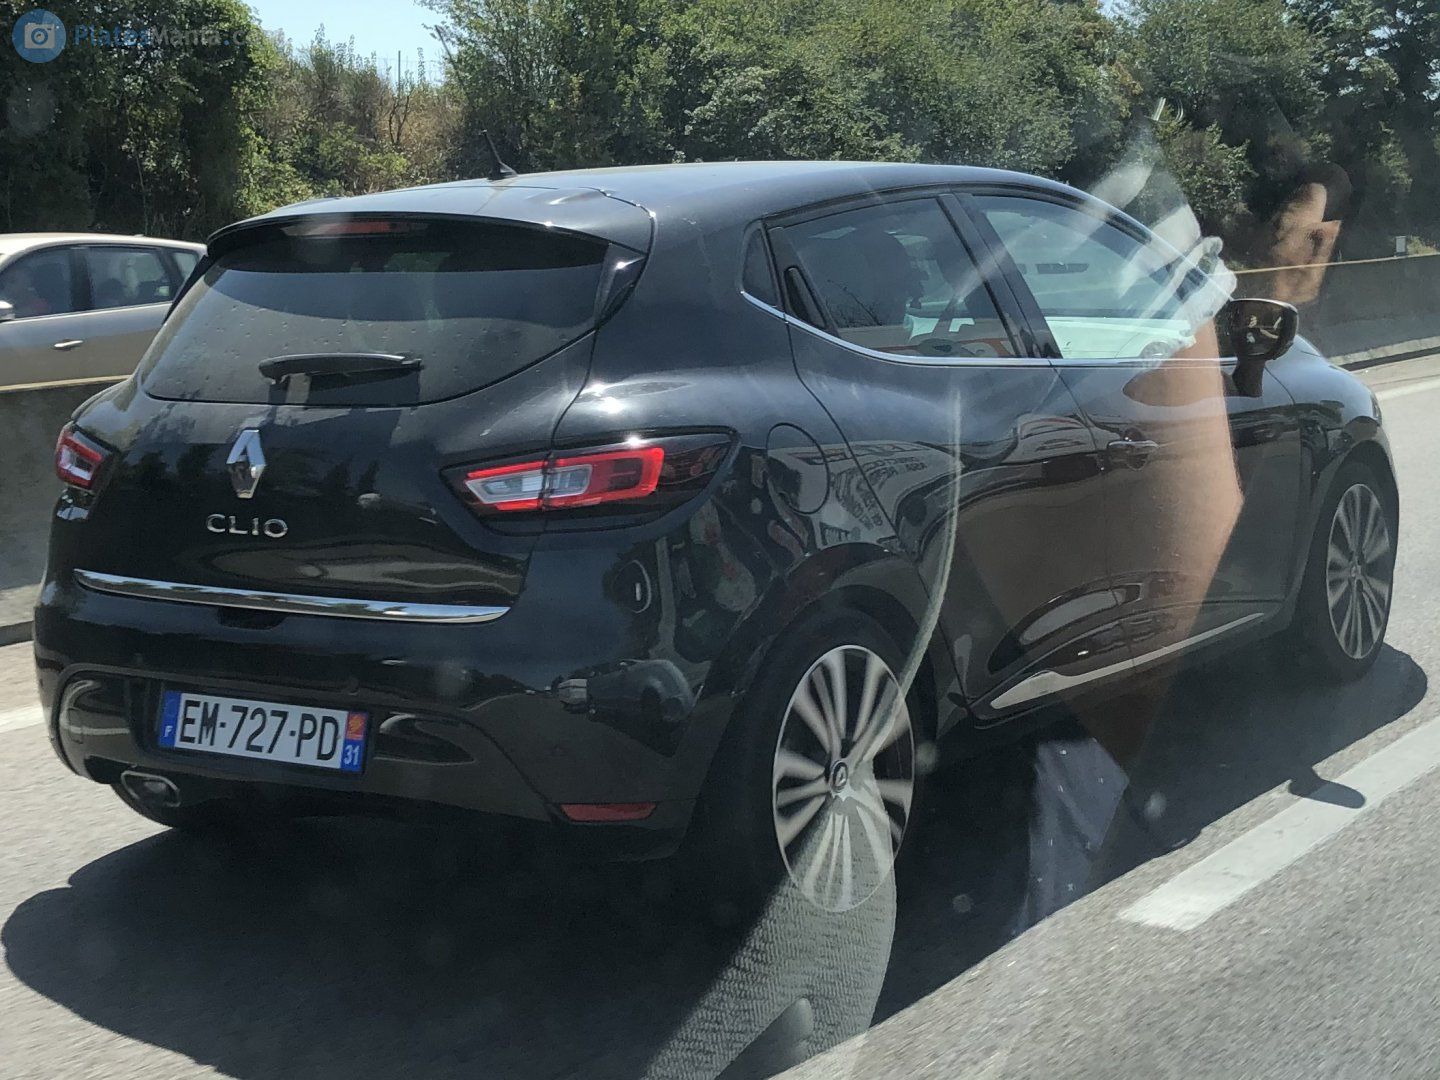licence plate: (151, 684, 370, 779)
